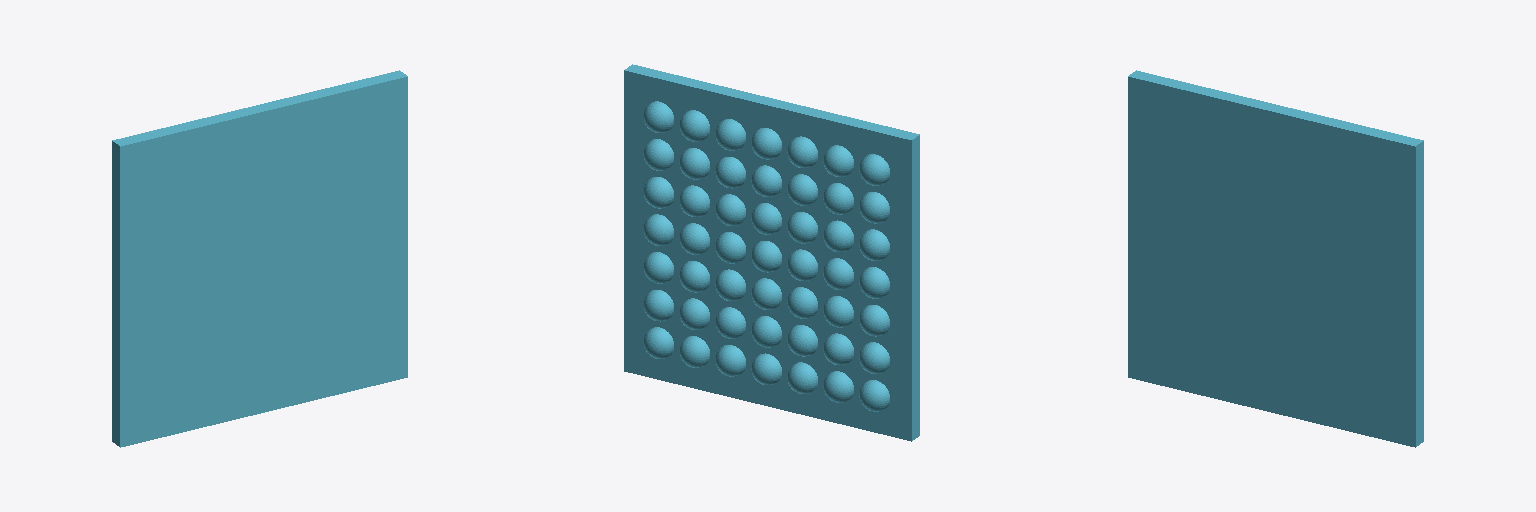
The model's file is bottom_lens2.obj.
3 renders of one model, left to right at view 1: azimuth 30°, elevation 25°; view 2: azimuth 150°, elevation 25°; view 3: azimuth 330°, elevation 25°, orthographic.
Visible parts, largest first — view 1: MeshBody5; view 2: MeshBody5; view 3: MeshBody5.
Boxes of the visible parts, x1,y1,x2,y2 form: MeshBody5: [112, 70, 407, 447]; MeshBody5: [624, 64, 919, 441]; MeshBody5: [1128, 70, 1423, 447].
Bounding box in the file's own units: 2 × 2 × 0.2.